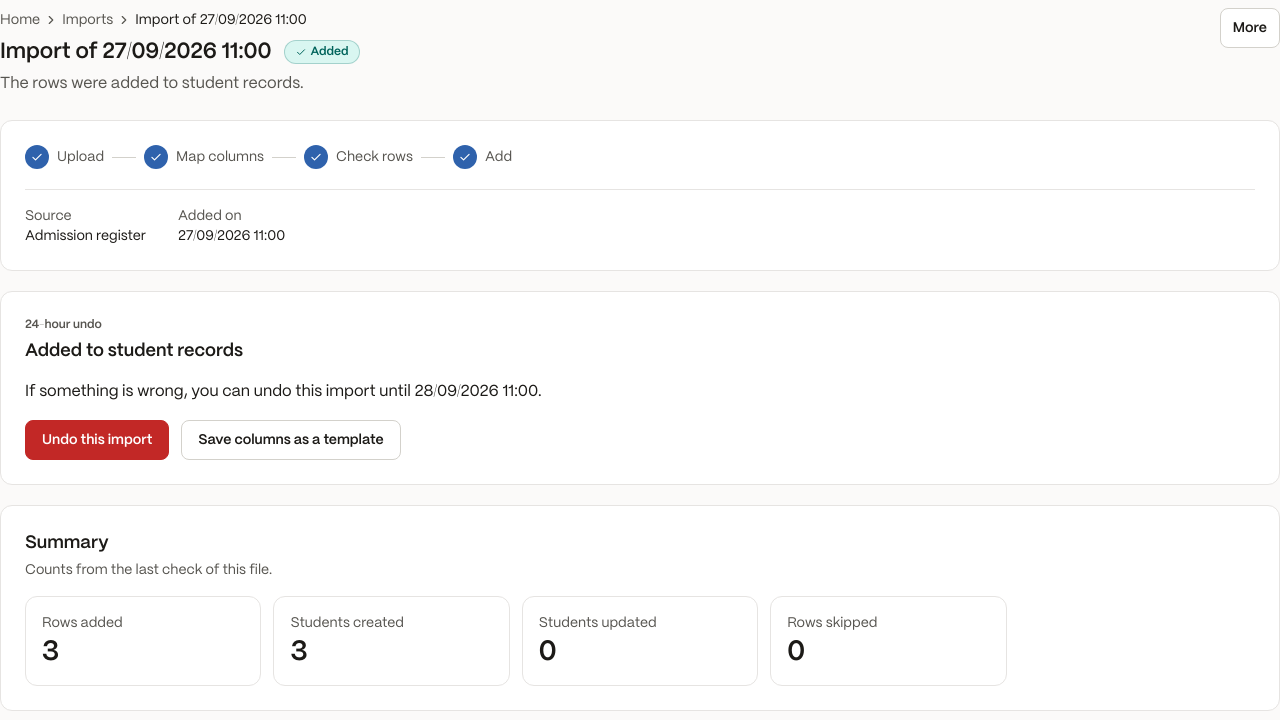
Test: US-401 AC1..AC3: one import › FR-IMP-005: offers undo until the deadline and explains a refusal
Step 1. Click the button "Undo this import" → (97,440), box [25, 420, 169, 460]
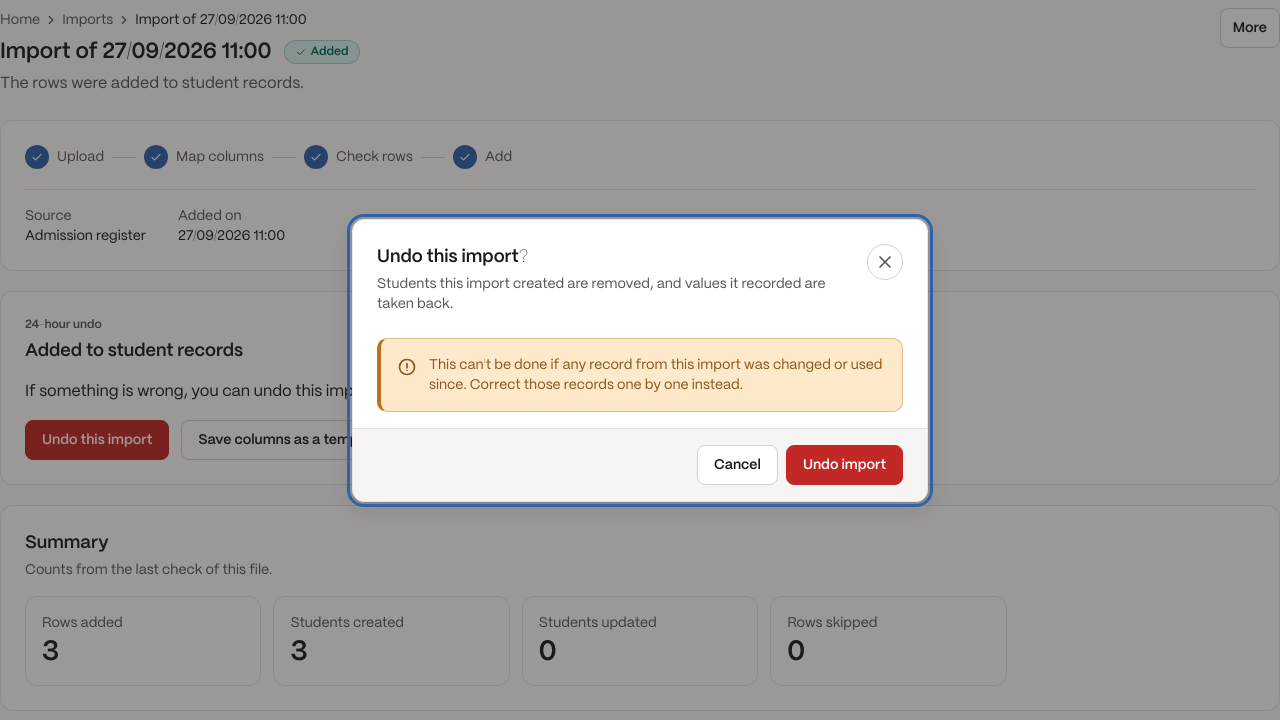
Step 2. Click the button "Undo import" → (844,464), box [786, 444, 903, 484]
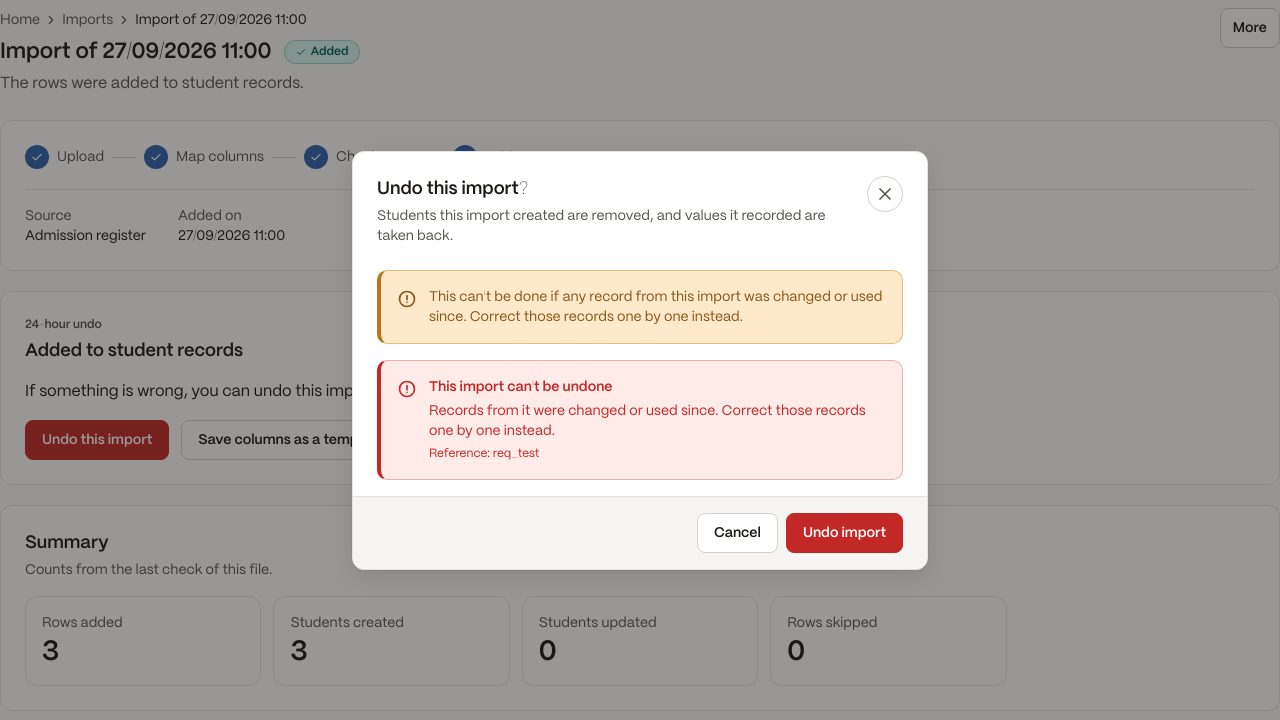
Result: the text "This import can't be undone" is shown at [429, 380, 612, 394]
